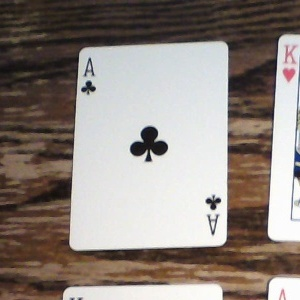card: (72, 41, 227, 247)
